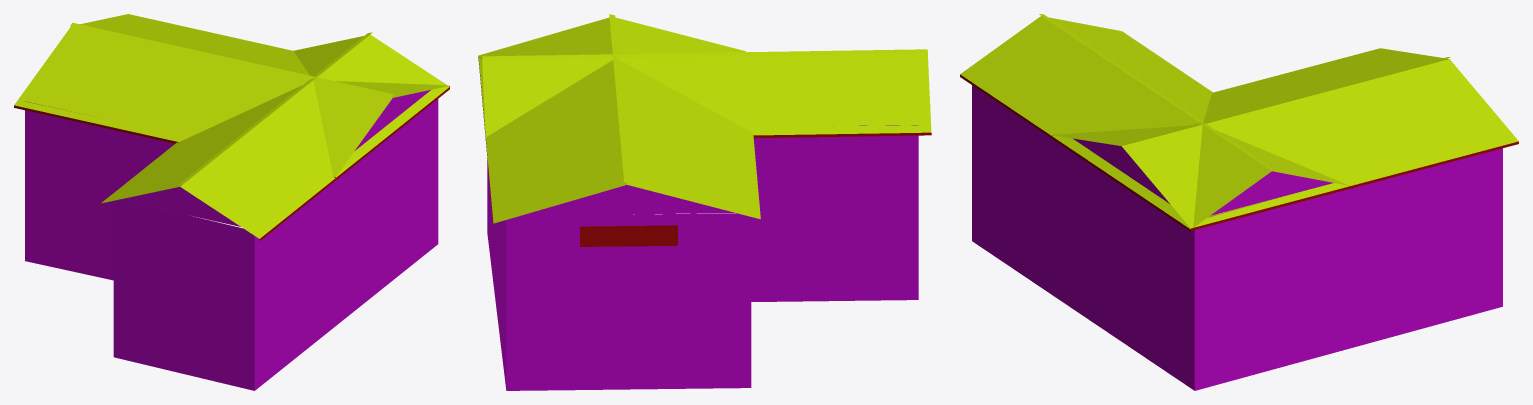
The model's file is scl_20.glb.
3 views of the same model, side by side, from view 1: azimuth 30°, elevation 25°; view 2: azimuth 150°, elevation 25°; view 3: azimuth 270°, elevation 25° (orthographic). The views are drawn at different scales.
Parts seen in each view (by area): view 1: scl_20; view 2: scl_20; view 3: scl_20.
Part boxes in pixels (left/top/right/bottom): scl_20: left=14, top=14, right=449, bottom=390; scl_20: left=478, top=14, right=931, bottom=390; scl_20: left=960, top=14, right=1518, bottom=390.
Bounding box in the file's own units: 19.3 × 9.34 × 22.99.
